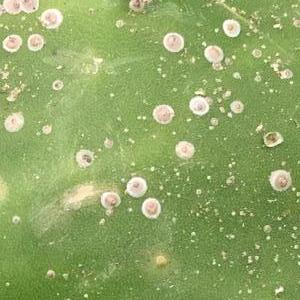Femea: (272, 171, 289, 189), (42, 10, 59, 26), (164, 33, 180, 49), (128, 177, 144, 192), (27, 35, 42, 49), (144, 201, 158, 216), (3, 36, 17, 50), (4, 0, 20, 12), (192, 97, 204, 113), (155, 108, 170, 120), (21, 0, 38, 10), (177, 143, 190, 156), (205, 47, 217, 61), (224, 21, 236, 34), (104, 197, 119, 206), (229, 100, 241, 111), (75, 159, 88, 168), (83, 165, 96, 173), (252, 47, 261, 56), (52, 81, 62, 89), (47, 271, 57, 279)
Linfa: (222, 81, 238, 98), (272, 285, 285, 294), (246, 254, 253, 263), (193, 89, 205, 94), (253, 243, 260, 250), (195, 188, 201, 195), (293, 243, 299, 249), (230, 210, 236, 216), (291, 186, 296, 191), (265, 235, 270, 239), (231, 54, 235, 59)
